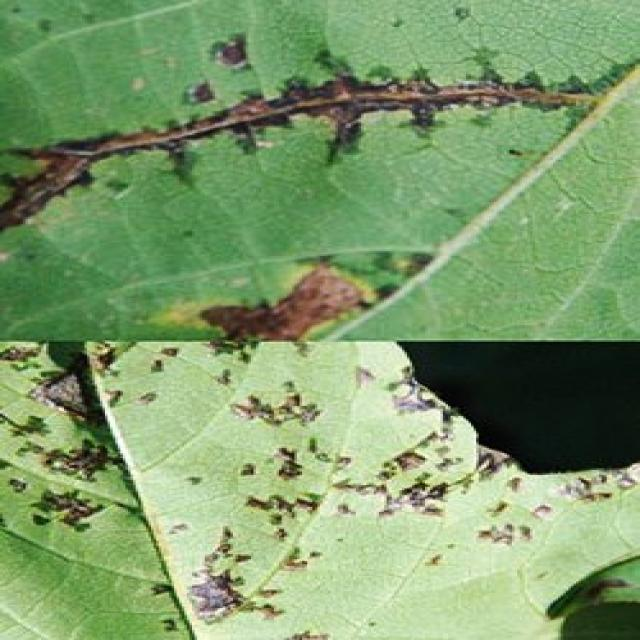Bacterial Blight: (41, 361, 467, 640), (26, 34, 558, 242)
